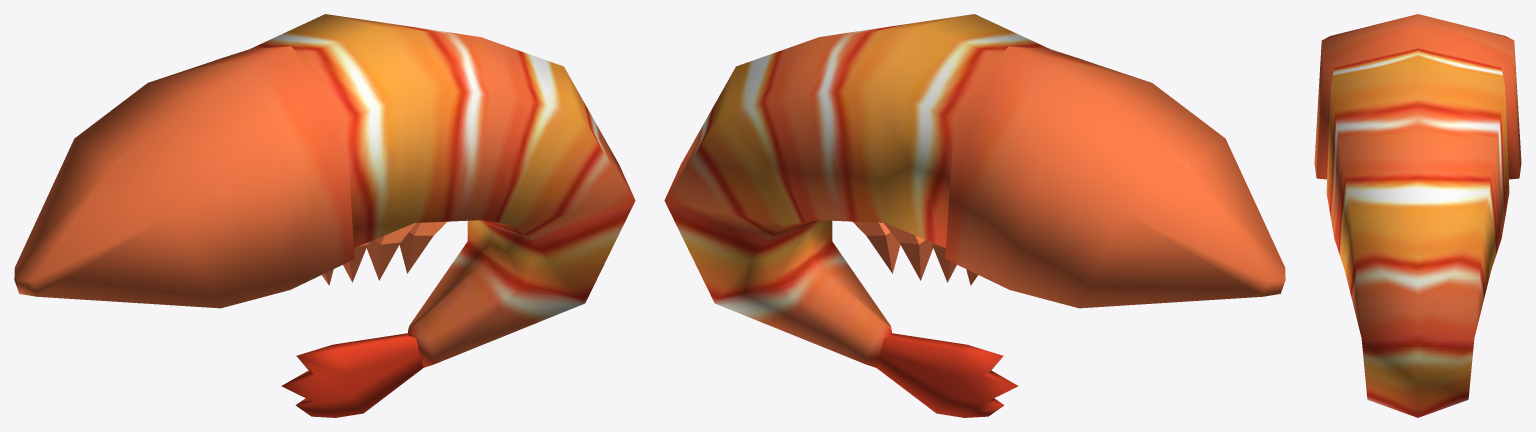
File: Con tom.fbx
3 renders of one model, left to right at view 1: azimuth 30°, elevation 25°; view 2: azimuth 150°, elevation 25°; view 3: azimuth 270°, elevation 25°, orthographic. The views are drawn at different scales.
Parts seen in each view (by area): view 1: Con tom; view 2: Con tom; view 3: Con tom.
Boxes of the visible parts, <box> form: Con tom: <box>14,14,635,417</box>; Con tom: <box>664,14,1285,417</box>; Con tom: <box>1314,14,1521,417</box>.
Size of the model in its own units: 50.87 by 30.59 by 17.48.
